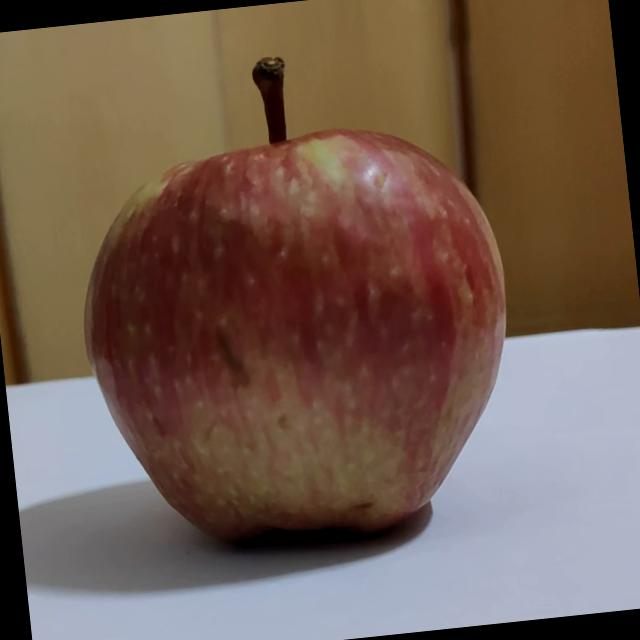apple: (41, 27, 538, 566)
